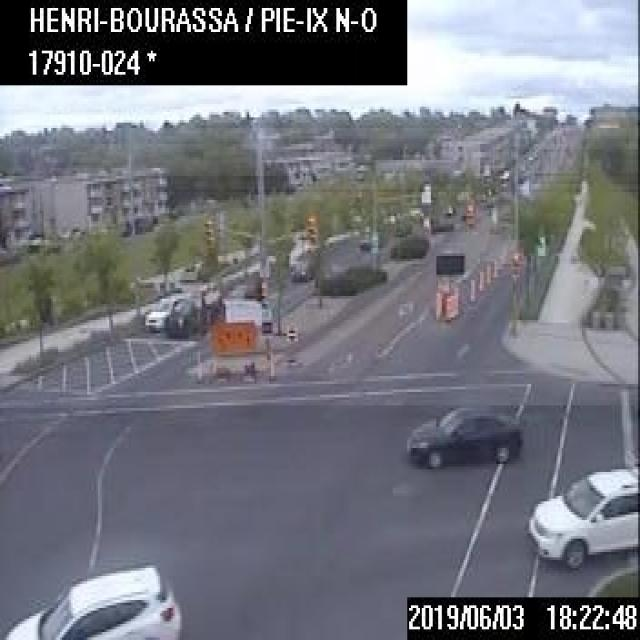construction: (205, 293, 271, 384), (432, 251, 463, 320), (452, 285, 459, 313), (434, 290, 440, 318), (443, 293, 449, 318), (468, 276, 474, 300), (477, 267, 482, 289), (449, 293, 454, 315), (485, 262, 490, 281), (491, 258, 496, 276)
vehicle: (0, 560, 184, 637), (526, 461, 638, 571), (406, 402, 524, 467), (142, 291, 185, 328), (165, 296, 203, 334), (287, 248, 315, 280), (358, 230, 382, 249)
